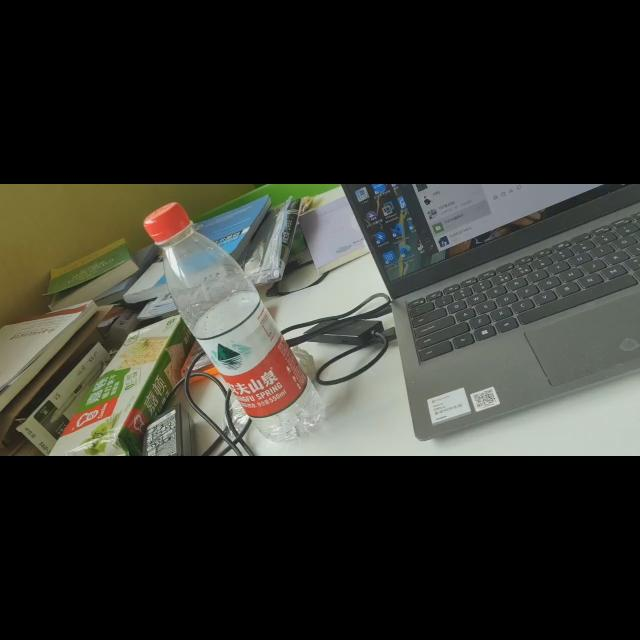trash: (139, 196, 323, 446)
